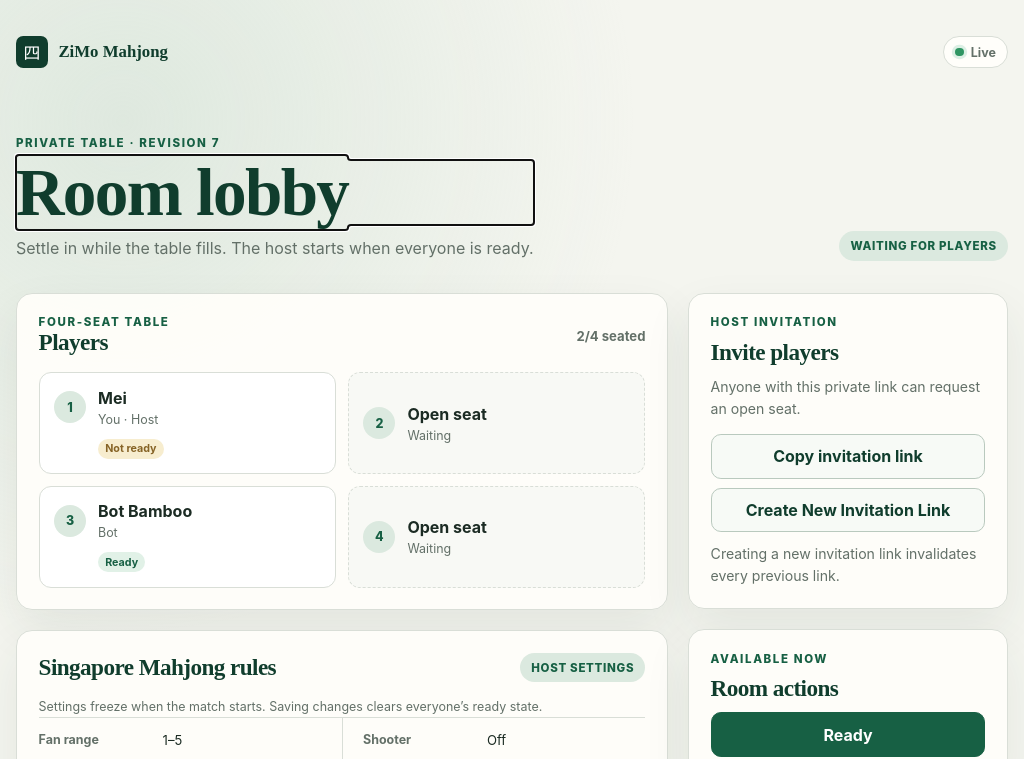
it: room UI › purges a former host invitation and ignores a delayed rotation result
Click the button "Create New Invitation Link" at (848, 510), box x1=711 y1=488 x2=985 y2=532
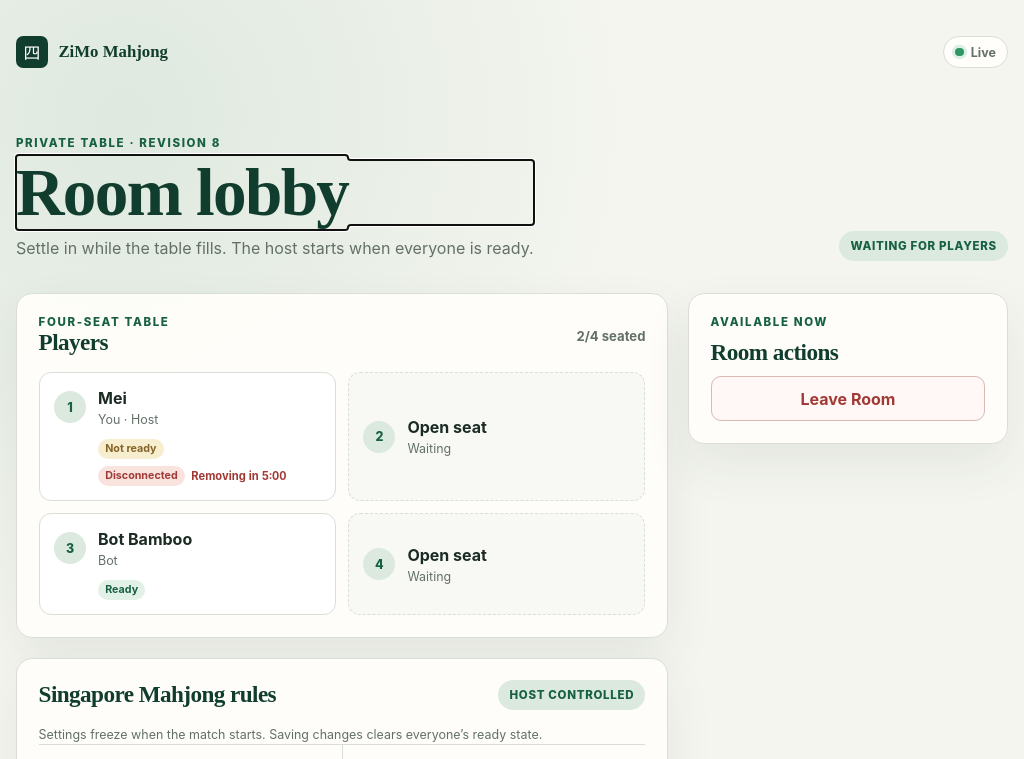
Result: the button "Copy invitation link" is gone
